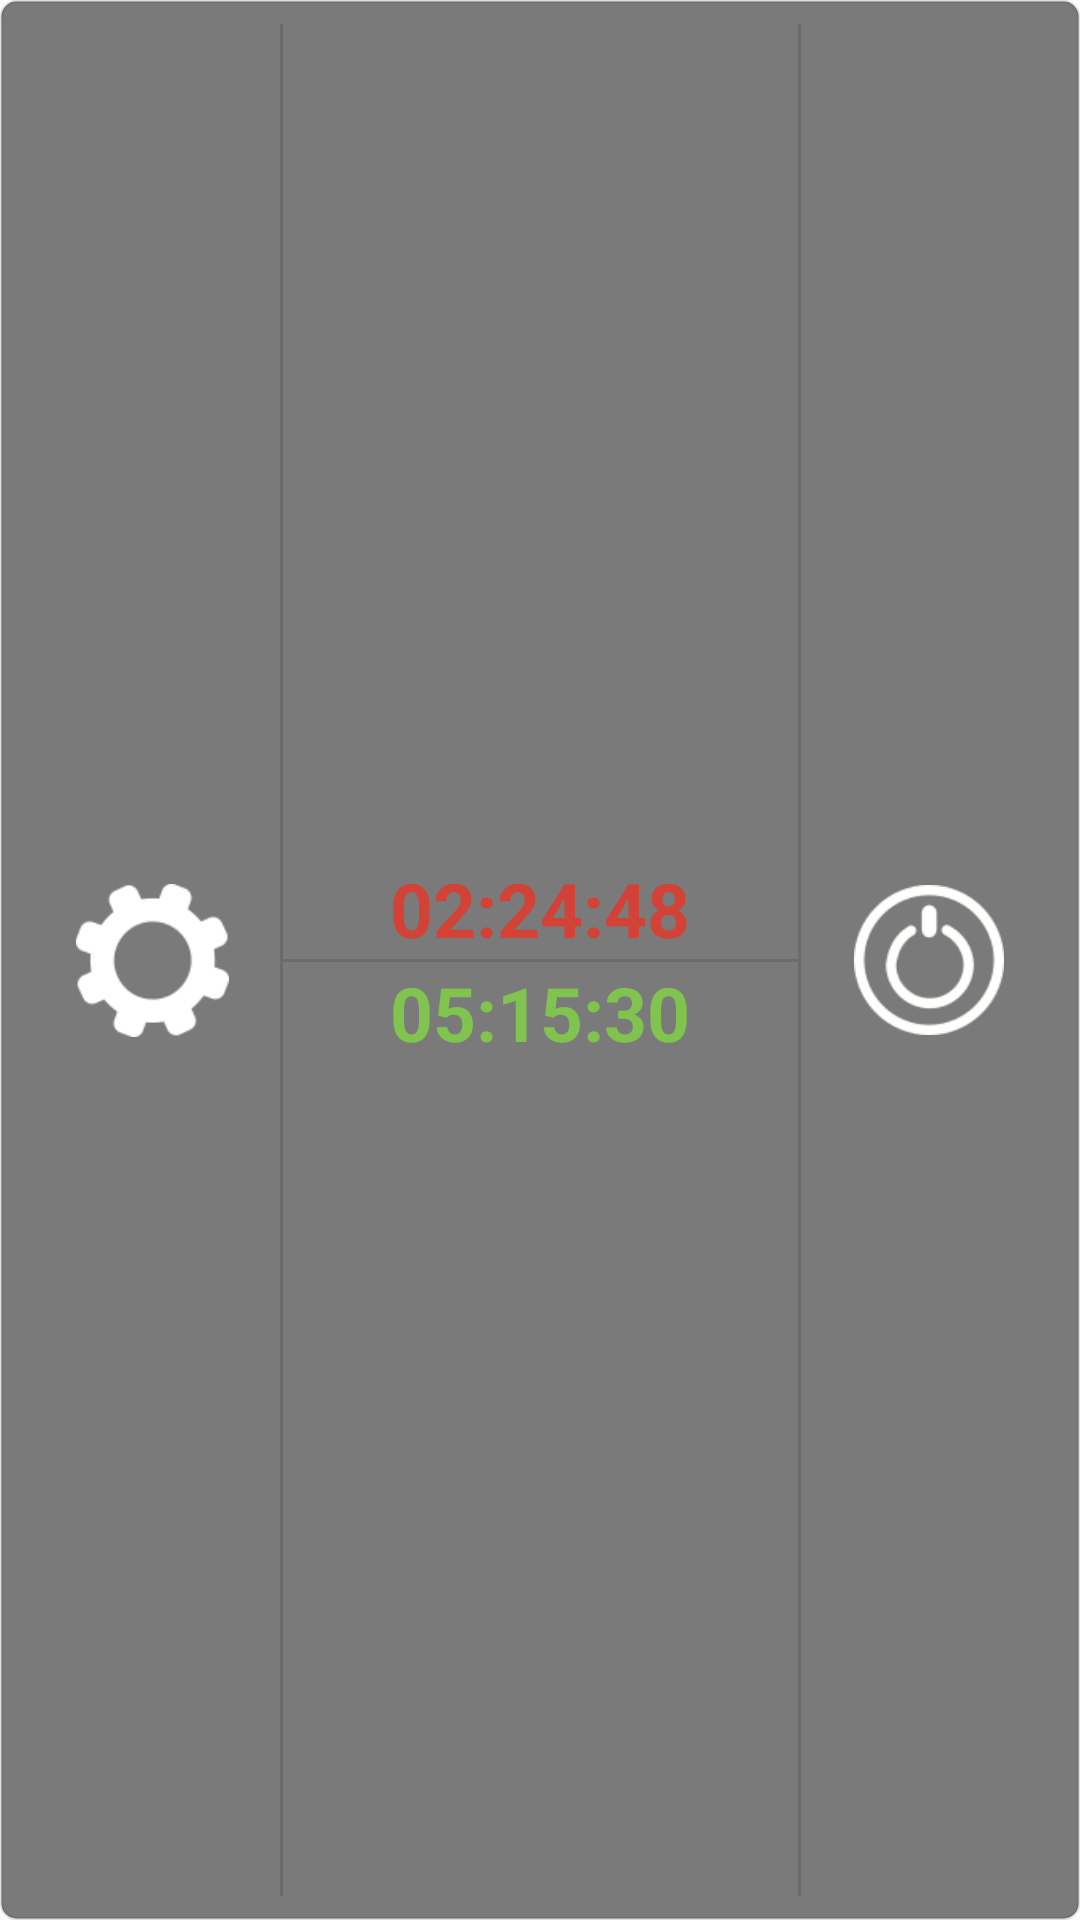

Screen size 1080 x 1920. Icon name, then its box in pixels as bbox=[x1, y1, x2, y2]:
settings: bbox=[76, 884, 229, 1037]
start stop: bbox=[854, 885, 1004, 1035]
